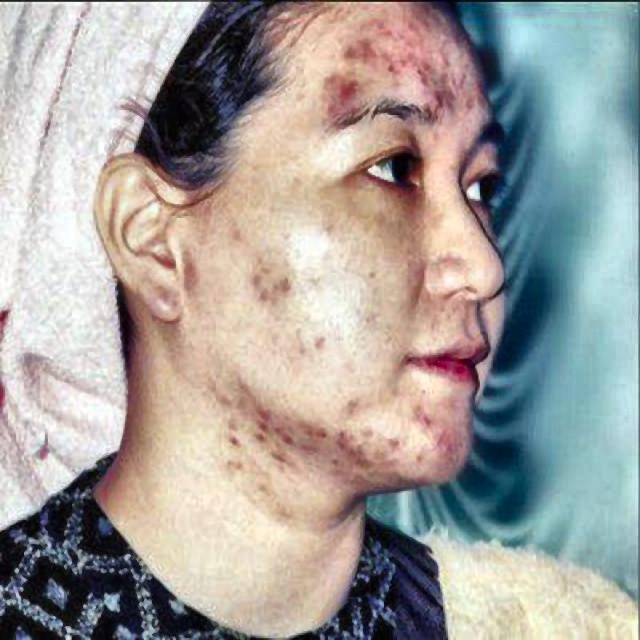papule: (435, 436, 474, 480), (429, 46, 467, 84), (374, 429, 405, 474), (328, 81, 366, 115), (459, 96, 490, 137), (307, 414, 336, 456), (352, 36, 382, 74), (429, 89, 459, 124), (270, 266, 302, 297), (414, 4, 452, 29), (243, 415, 277, 441), (238, 268, 268, 295), (270, 439, 292, 472), (405, 407, 438, 429), (344, 446, 366, 474), (326, 46, 356, 66), (402, 15, 426, 36), (365, 17, 400, 31), (407, 58, 428, 81), (336, 432, 362, 446), (253, 399, 270, 418), (388, 48, 398, 74), (405, 46, 419, 57)
